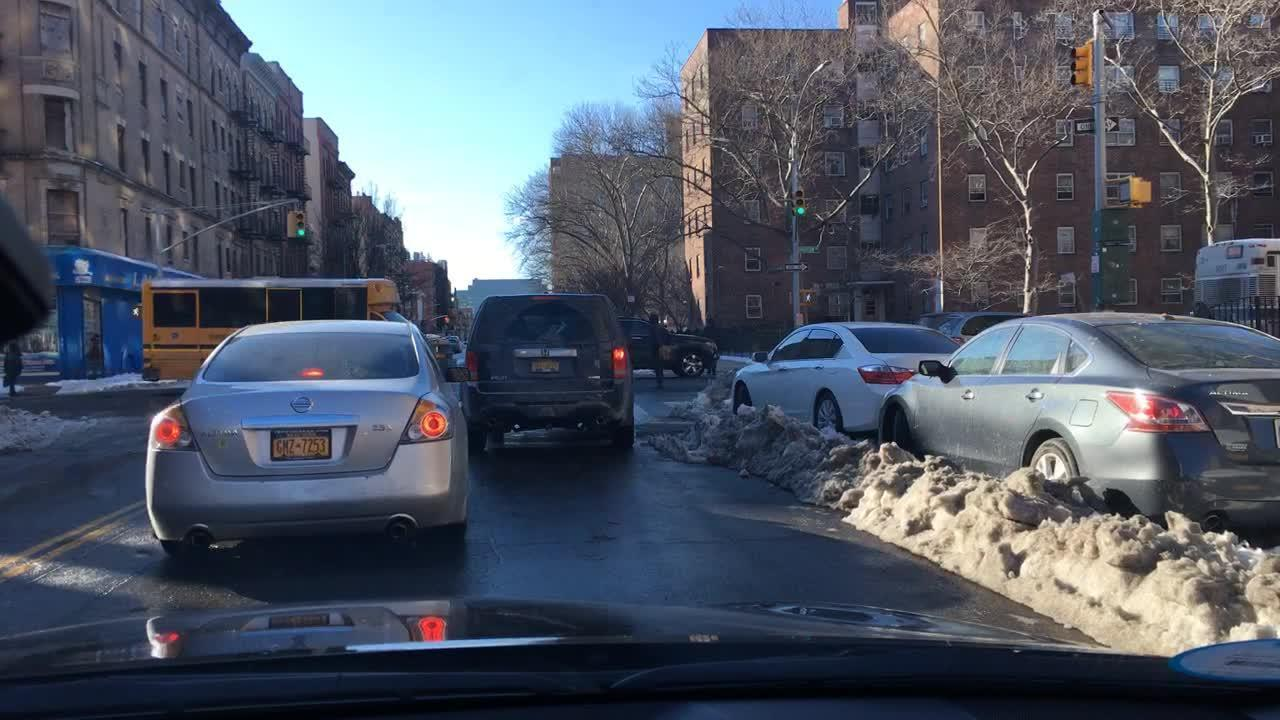Honda: (539, 344, 553, 359)
Nissan: (286, 391, 315, 419)
